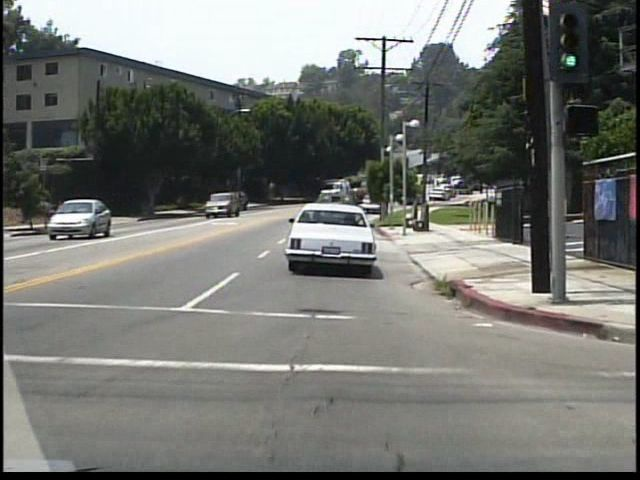person: (58, 201, 70, 228)
